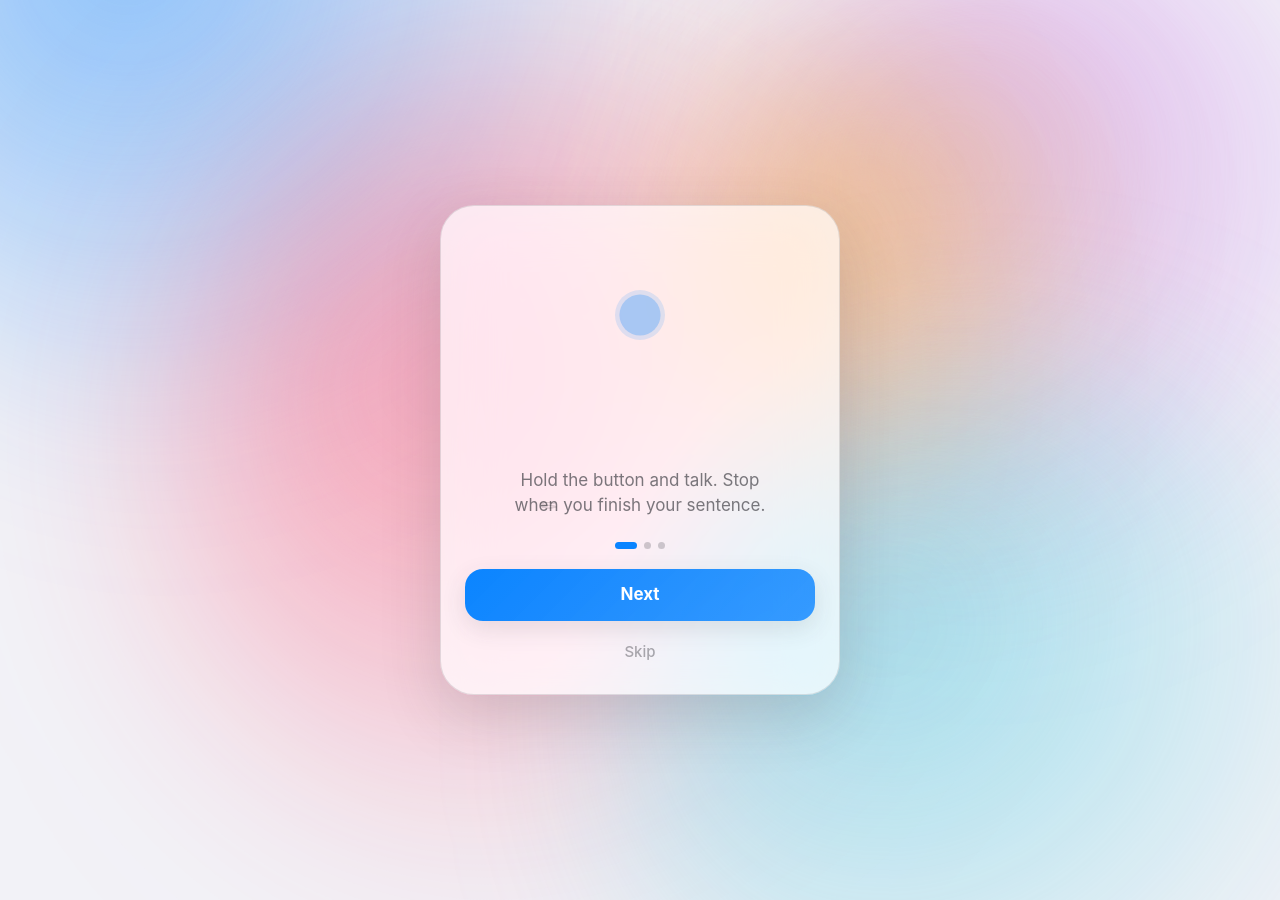
Scenario: App integration › onboarding › walks through all three steps in the guided variant
The image size is (1280, 900).
Expected: the element with test id "onboarding" is shown, [440,205,840,695]
Click the button with test id "onboarding-next" at (640, 595), box [465,569,815,621]
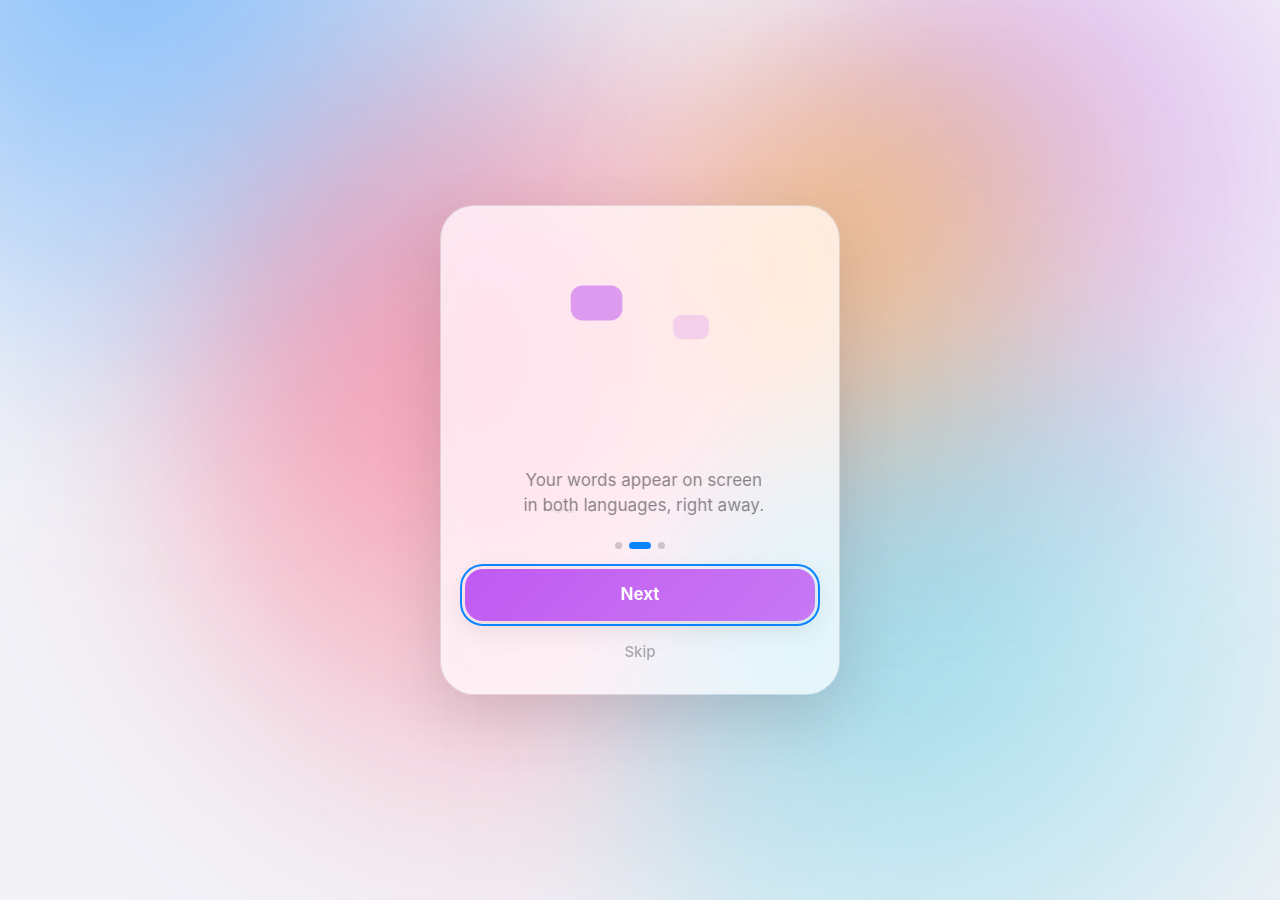
Click the button with test id "onboarding-next" at (640, 595), box [465,569,815,621]
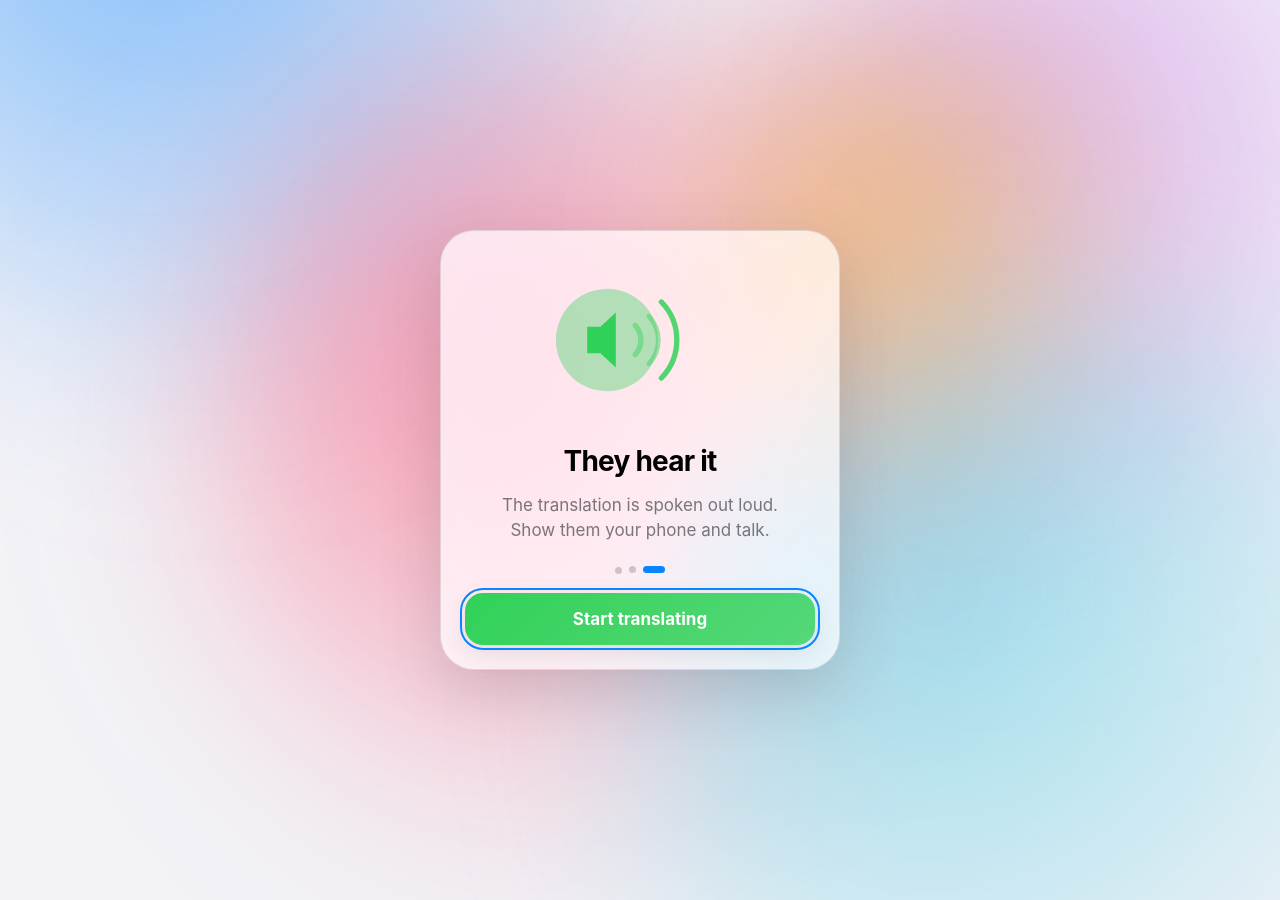
Expected: the heading "They hear it" is shown, [564,444,716,478]
Expected: the button with test id "onboarding-next" reads "Start translating", [465,593,815,645]
